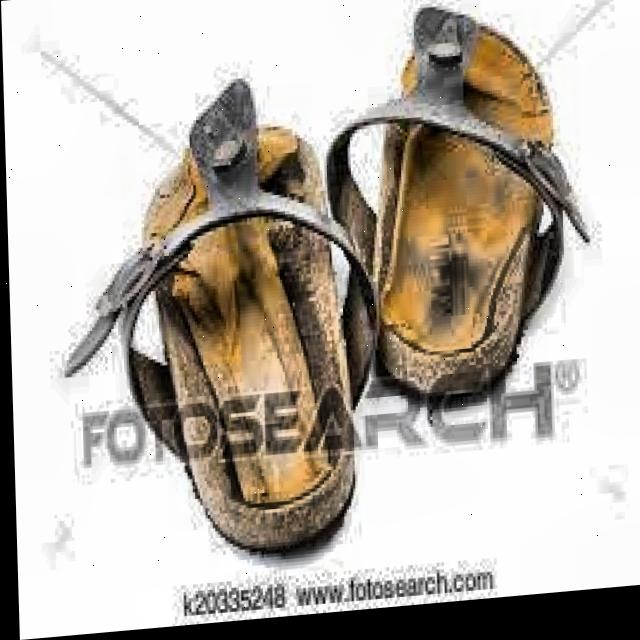shoes: (67, 0, 596, 570)
